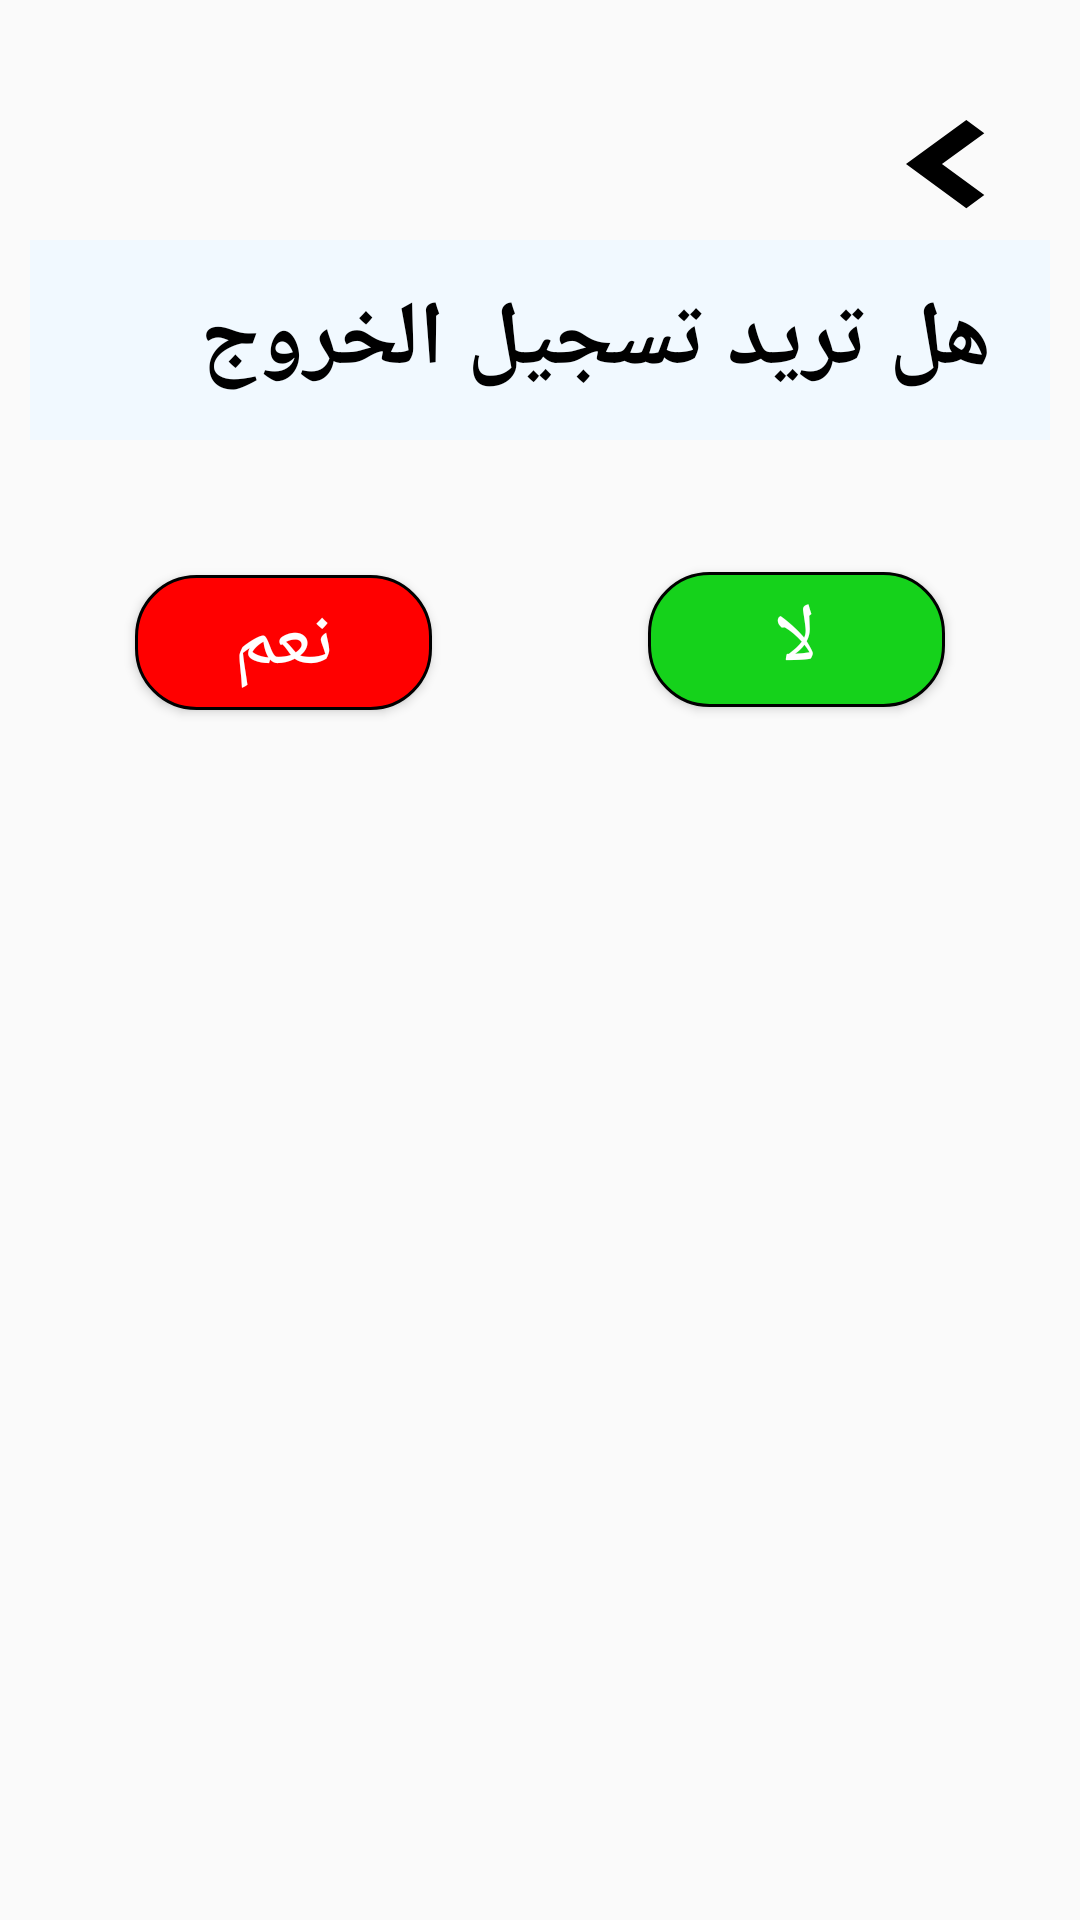

Named icons in this screenshot (1080px x 1920px) and their bounding boxes, bbox=(x1, y1, x2, y2):
arrow left: bbox=(906, 120, 984, 208)
